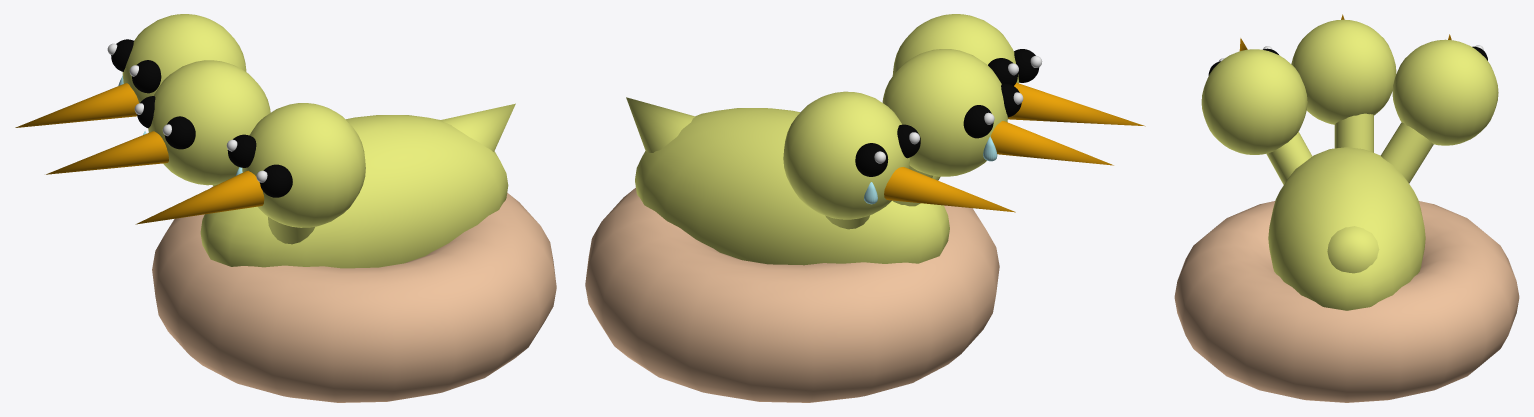
Rendered from Three Headed Crying Duck.fbx.
3 renders of one model, left to right at view 1: azimuth 30°, elevation 25°; view 2: azimuth 150°, elevation 25°; view 3: azimuth 270°, elevation 25°, orthographic. The views are drawn at different scales.
Parts seen in each view (by area): view 1: pTorus1, pCylinder4, pCone3, pCone4, pCone2, pSphere10, pSphere8, pSphere6, pSphere9, pSphere5; view 2: pTorus1, pCylinder4, pCone4, pCone3, pCone2, pSphere5, pSphere7, pSphere10, pSphere6, pSphere9; view 3: pCylinder4, pTorus1.
Boxes of the visible parts, x1,y1,x2,y2 form: pTorus1: (152,186,556,402); pCylinder4: (122,14,515,268); pCone3: (135,170,264,224); pCone4: (15,83,138,127); pCone2: (46,131,168,174); pSphere10: (260,164,292,197); pSphere8: (164,116,195,149); pSphere6: (132,60,161,93); pSphere9: (227,134,256,167); pSphere5: (111,39,133,71); pTorus1: (585,187,999,402); pCylinder4: (626,14,1018,265); pCone4: (884,167,1015,212); pCone3: (1008,82,1145,126); pCone2: (990,121,1113,165); pSphere5: (855,143,888,176); pSphere7: (963,105,993,138); pSphere10: (1014,49,1039,82); pSphere6: (897,124,920,158); pSphere9: (988,58,1017,85); pCylinder4: (1201,19,1498,310); pTorus1: (1174,201,1519,402).
Size of the model in its own units: 14.72 by 8.97 by 10.62.
